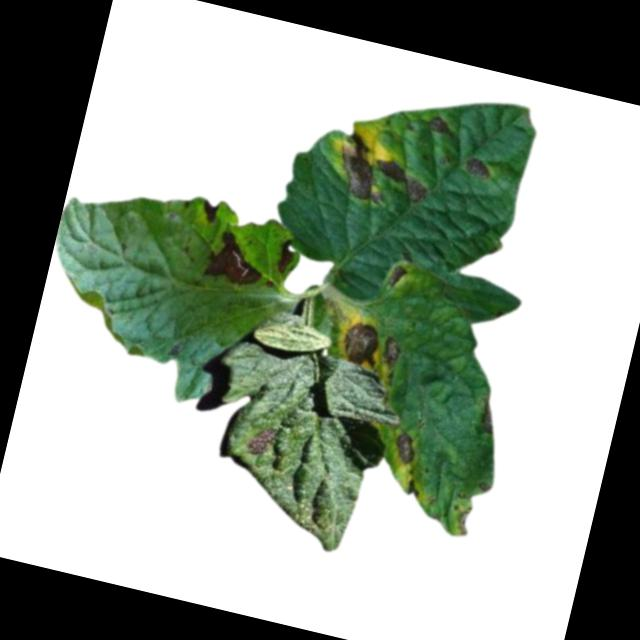Early_blight: (328, 127, 396, 207), (200, 224, 272, 293), (370, 155, 436, 205), (338, 316, 385, 369), (243, 419, 282, 461), (389, 428, 421, 467), (474, 394, 502, 438), (275, 233, 300, 277), (380, 333, 408, 365), (463, 155, 495, 183), (452, 500, 474, 538), (383, 262, 409, 292), (427, 112, 458, 137), (199, 197, 224, 227), (404, 477, 425, 499)
